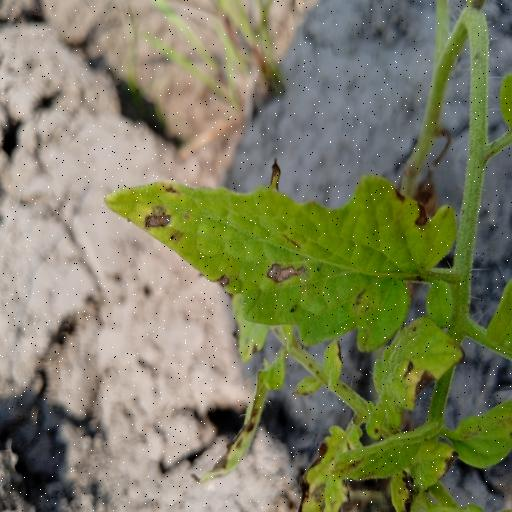Tomato_Brown_Spots: (96, 168, 452, 352)
